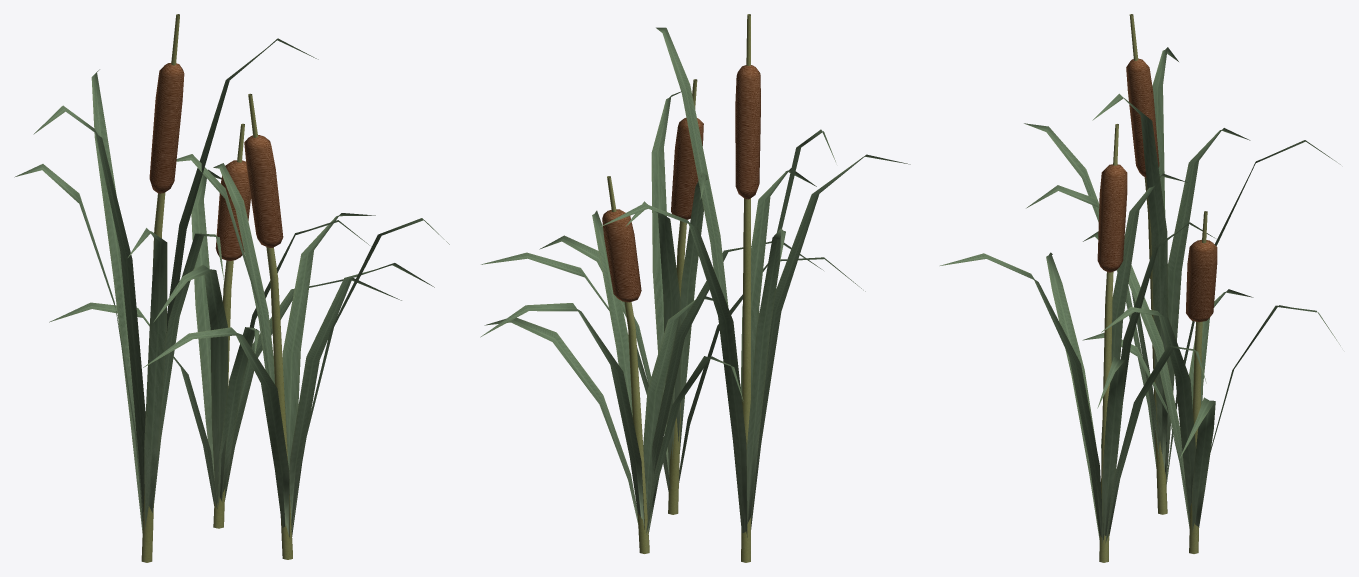
Rendered from marsh-cattail.glb.
The picture shows the model from 3 angles, left to right: view 1: azimuth 30°, elevation 25°; view 2: azimuth 150°, elevation 25°; view 3: azimuth 270°, elevation 25°; orthographic projection. The views are drawn at different scales.
Parts seen in each view (by area): view 1: Narrow-leaved cattail colony; view 2: Narrow-leaved cattail colony; view 3: Narrow-leaved cattail colony.
Part boxes in pixels (x1,y1,x2,y2): Narrow-leaved cattail colony: (14, 14, 449, 562); Narrow-leaved cattail colony: (480, 14, 910, 562); Narrow-leaved cattail colony: (940, 14, 1340, 562).
Size of the model in its own units: 1.12 by 1.61 by 1.18.
Materials: 1 (1 with a texture image).
